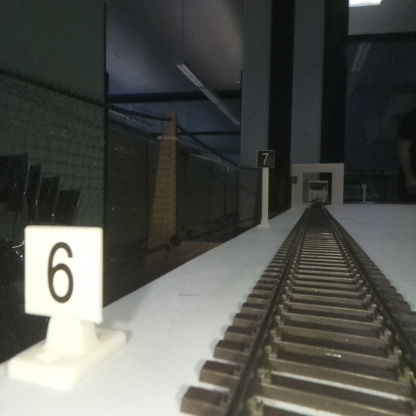black-info-7: (257, 149, 274, 227)
white-stop-6: (25, 227, 102, 378)
